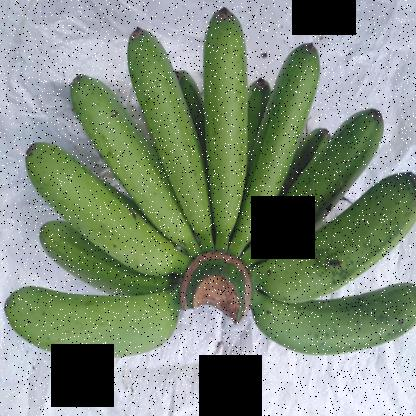unripe: (63, 63, 196, 236), (24, 134, 181, 280), (122, 16, 210, 260), (0, 269, 188, 361), (192, 0, 250, 268), (254, 270, 416, 359)
